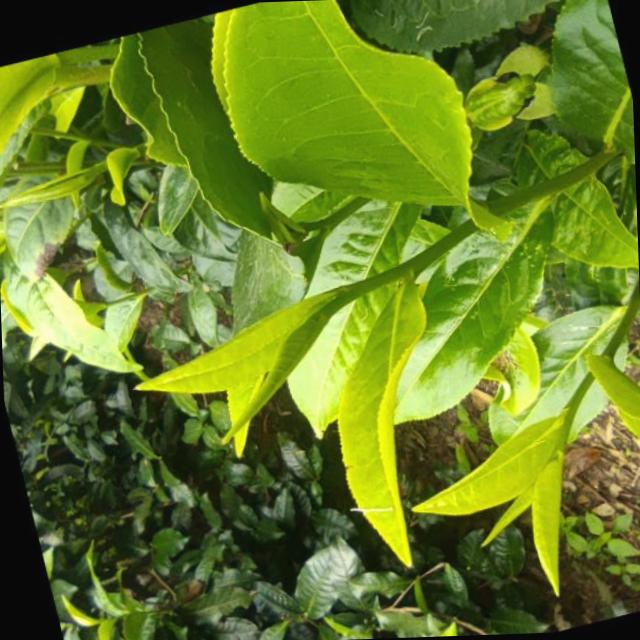Stem: (344, 279, 365, 301), (320, 213, 339, 233), (563, 394, 581, 412)
